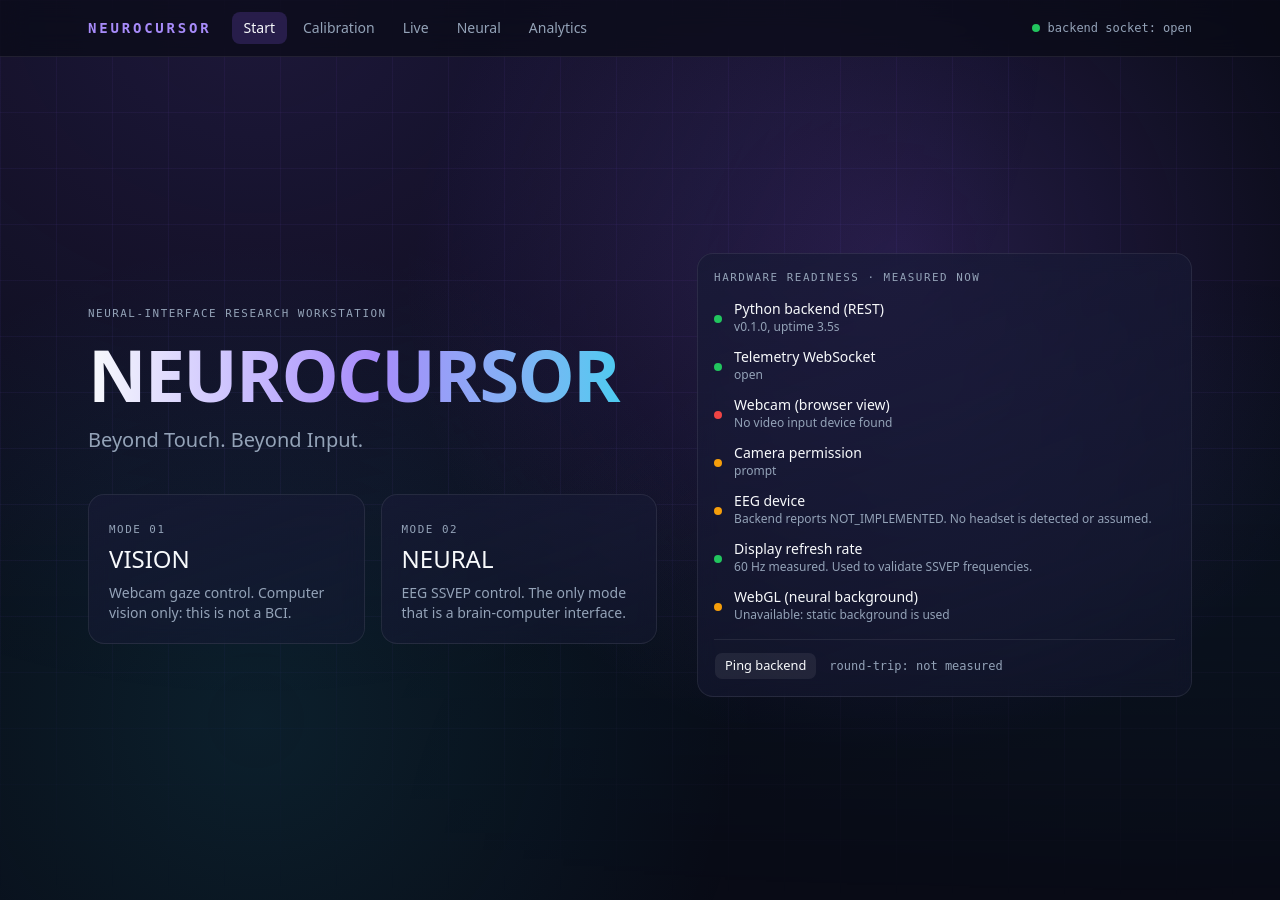
App shell + Welcome › reflects the real socket state and measures a ping round-trip
Expected: the element with test id "backend-chip" shows "open", [1163, 21, 1192, 35]
Click the button "Ping backend". click: point(766, 666)
box: [714, 652, 817, 680]
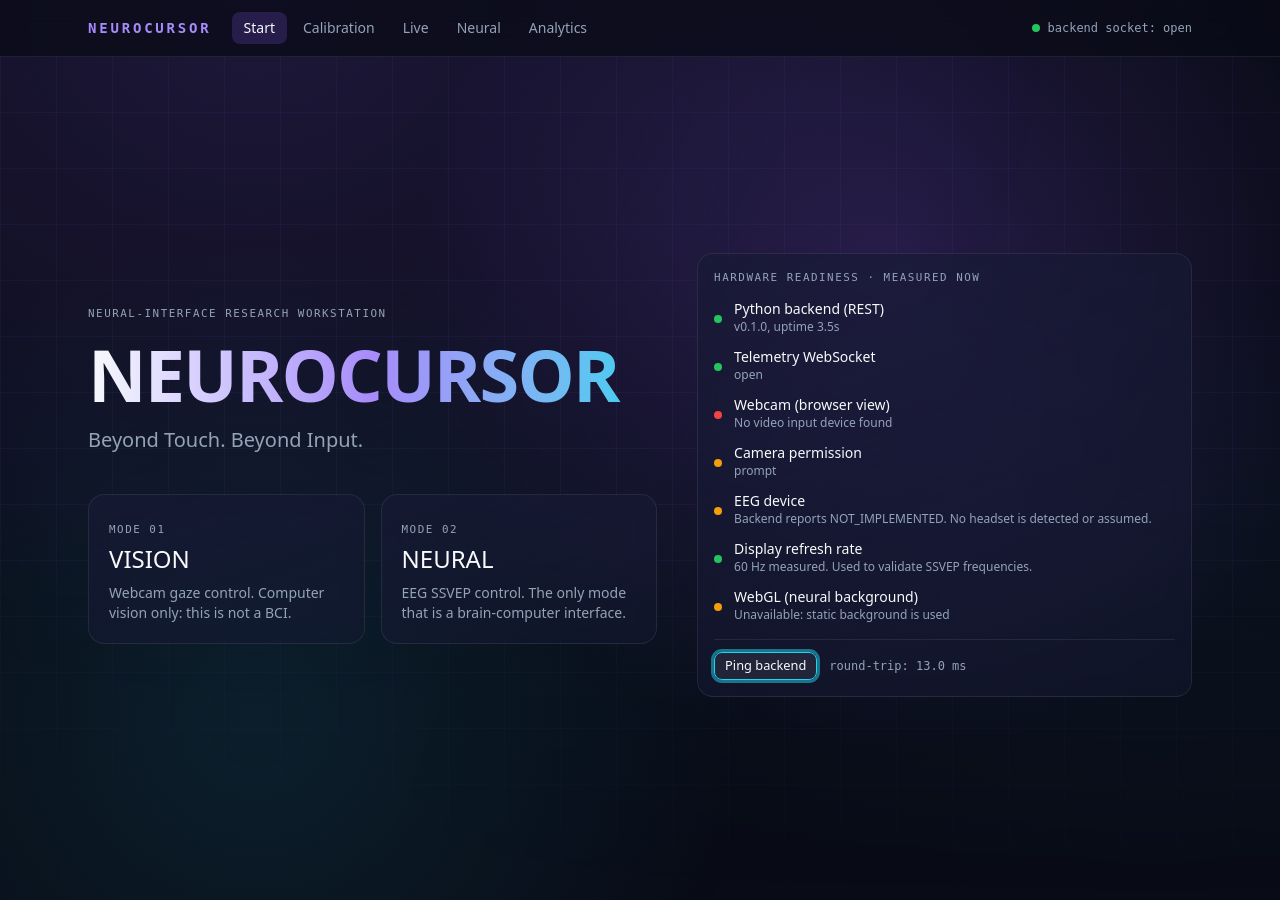
Result: the text with test id "rtt" shows "ms" at [916, 659, 967, 673]
